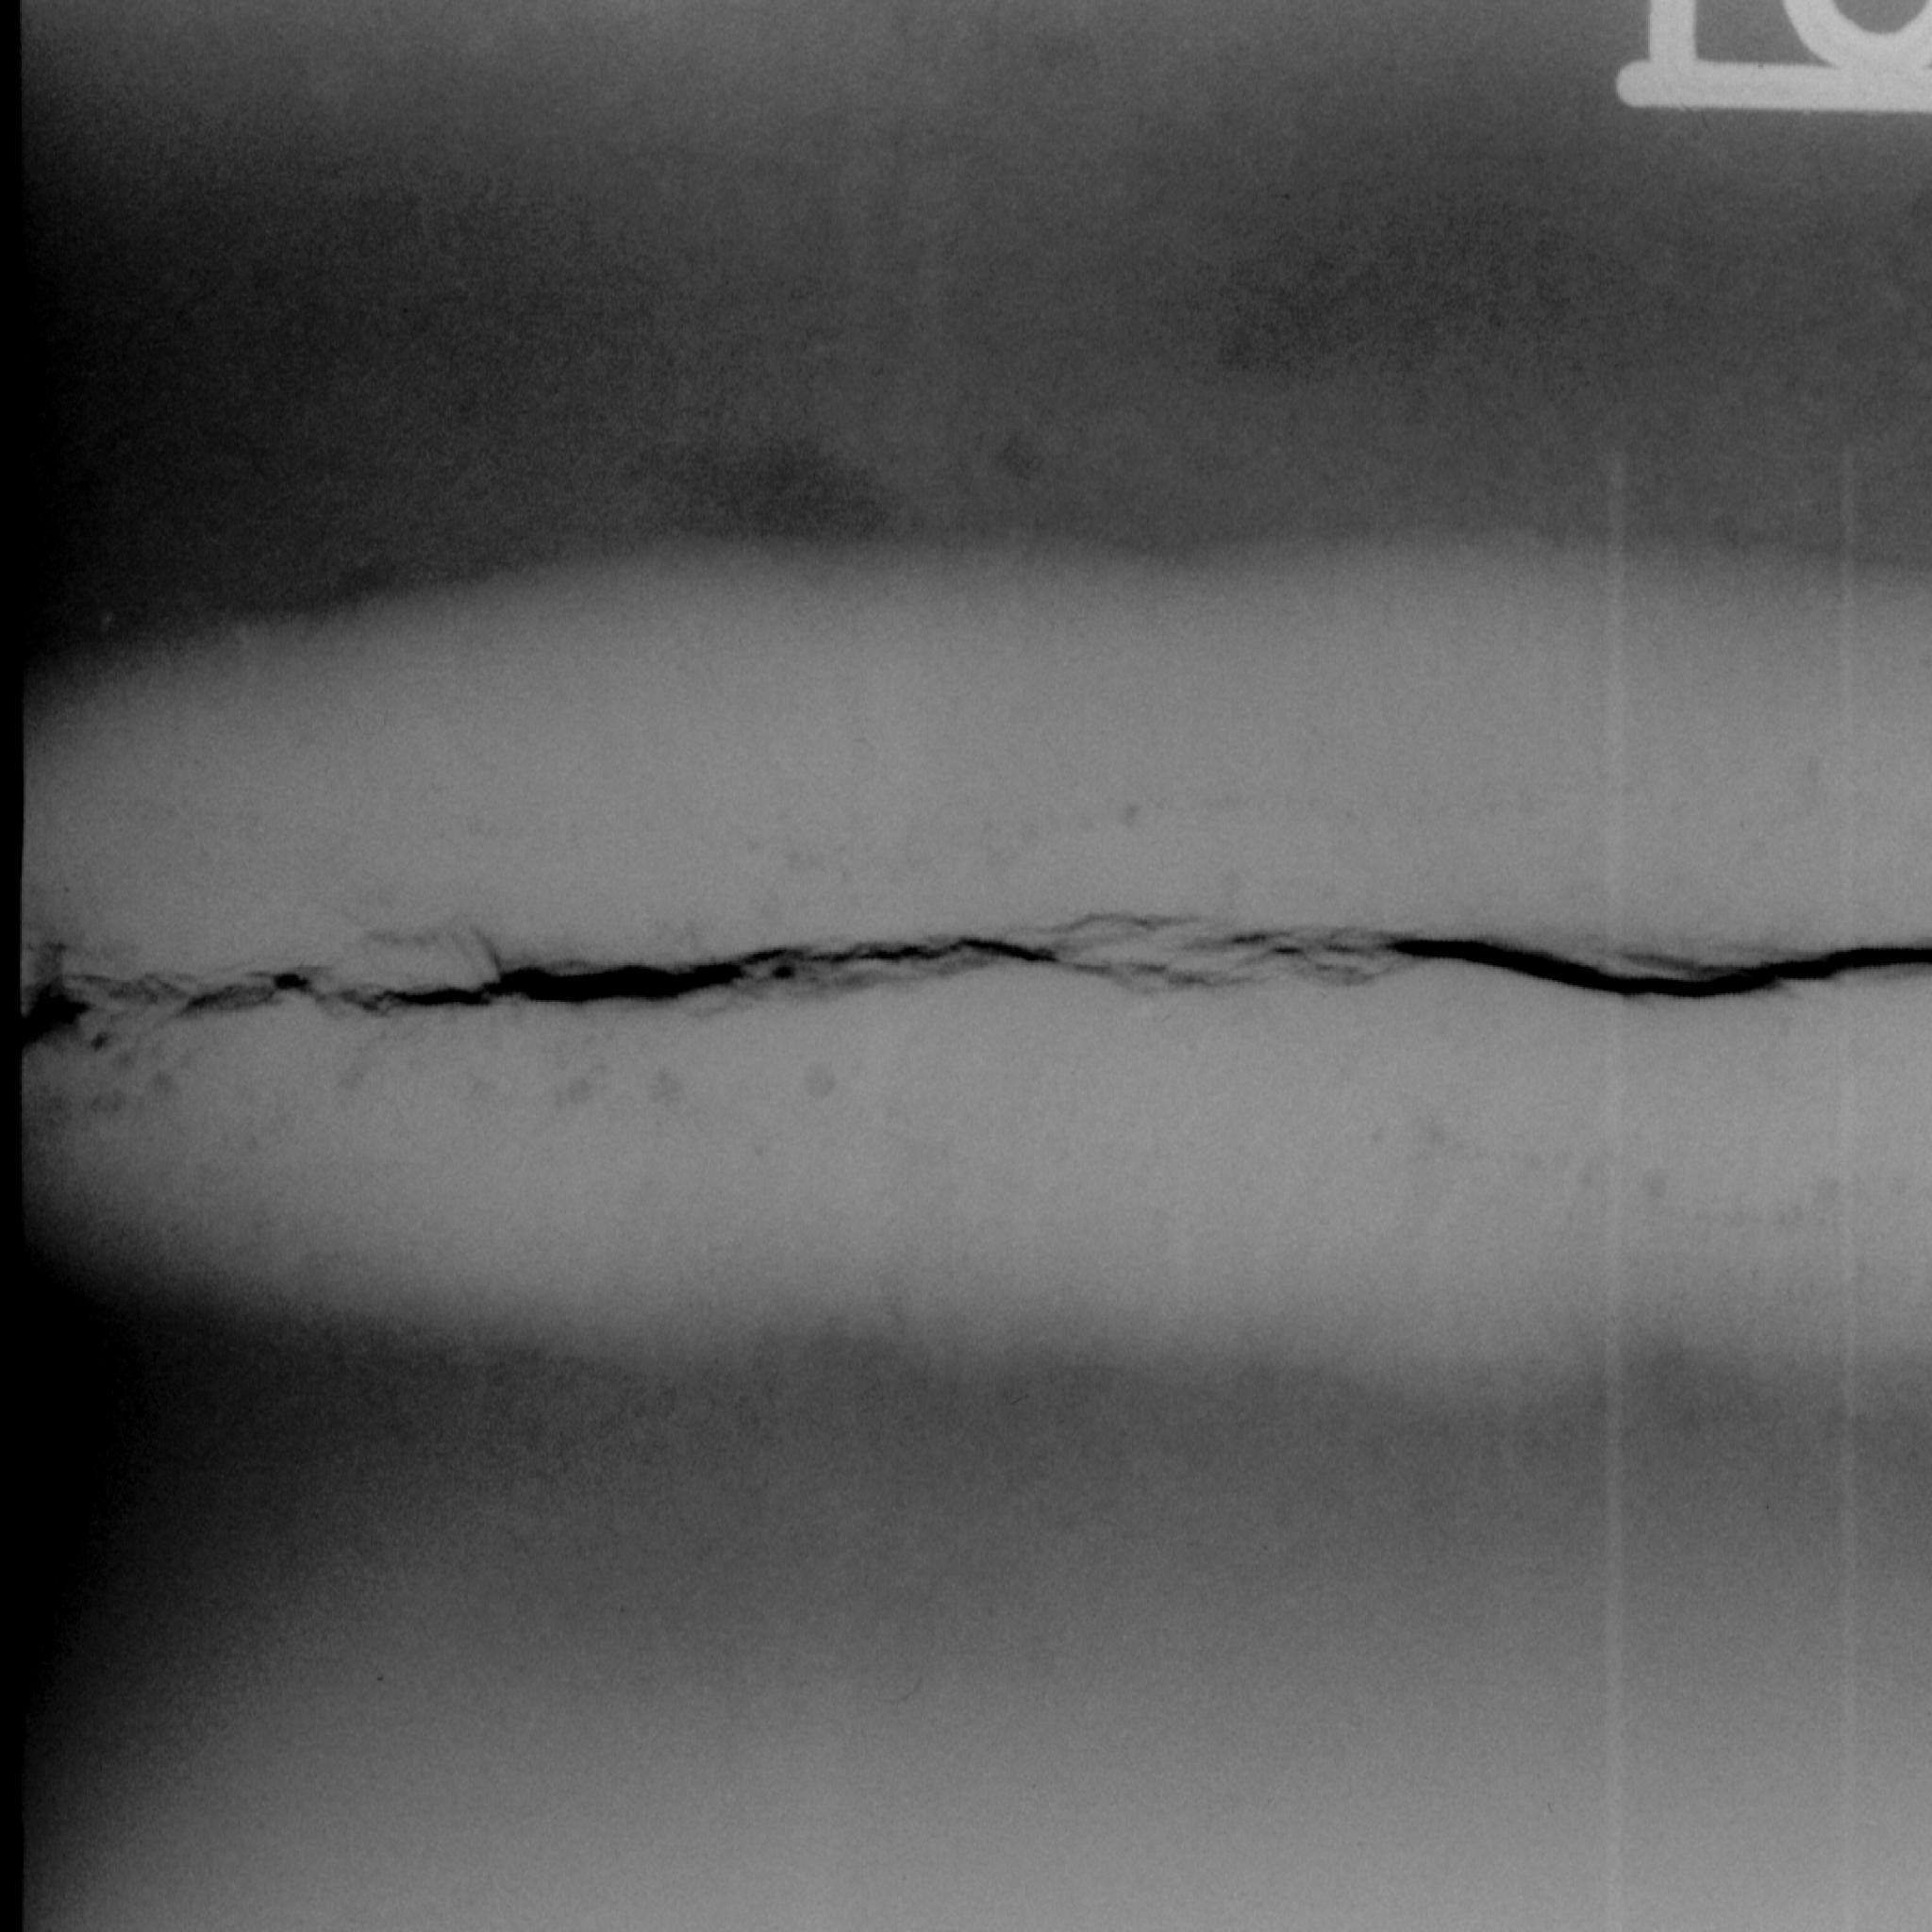TR: (21, 817, 1932, 1169)
